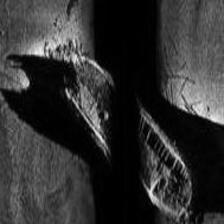ship: (64, 55, 194, 219)
